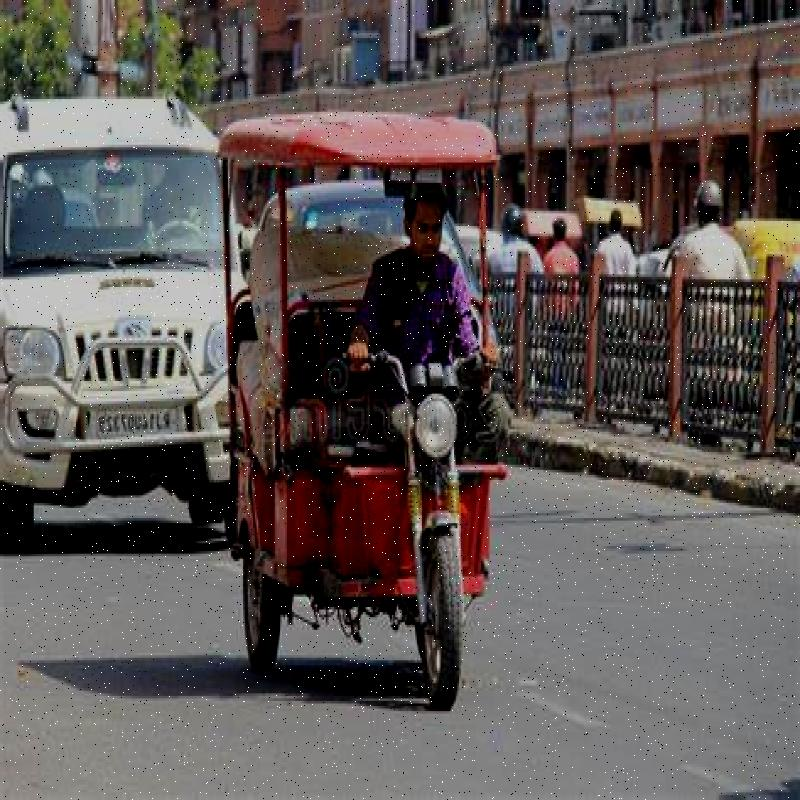car: (0, 68, 233, 526)
